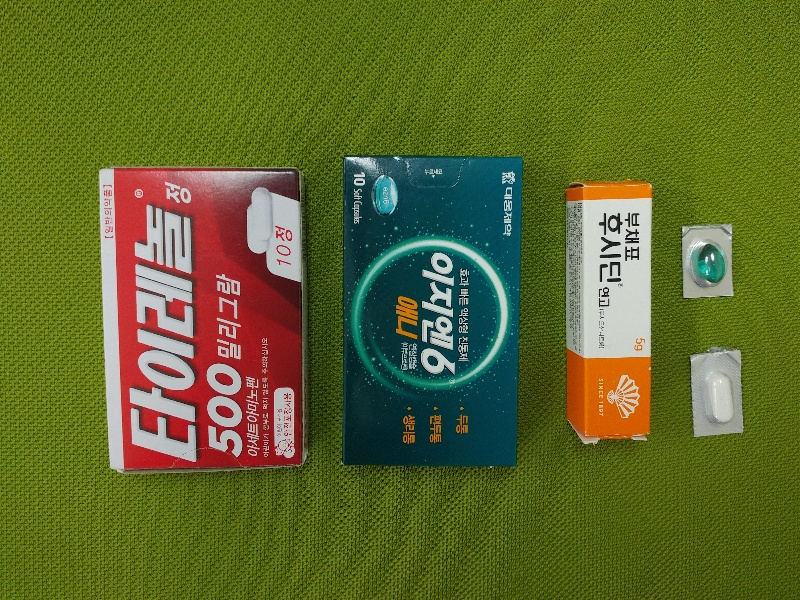ezn: (342, 155, 517, 466)
fucidin: (563, 180, 649, 441)
pill_ezn: (680, 225, 730, 296)
pill_tylenol: (692, 350, 743, 437)
tylenol: (99, 168, 307, 472)
